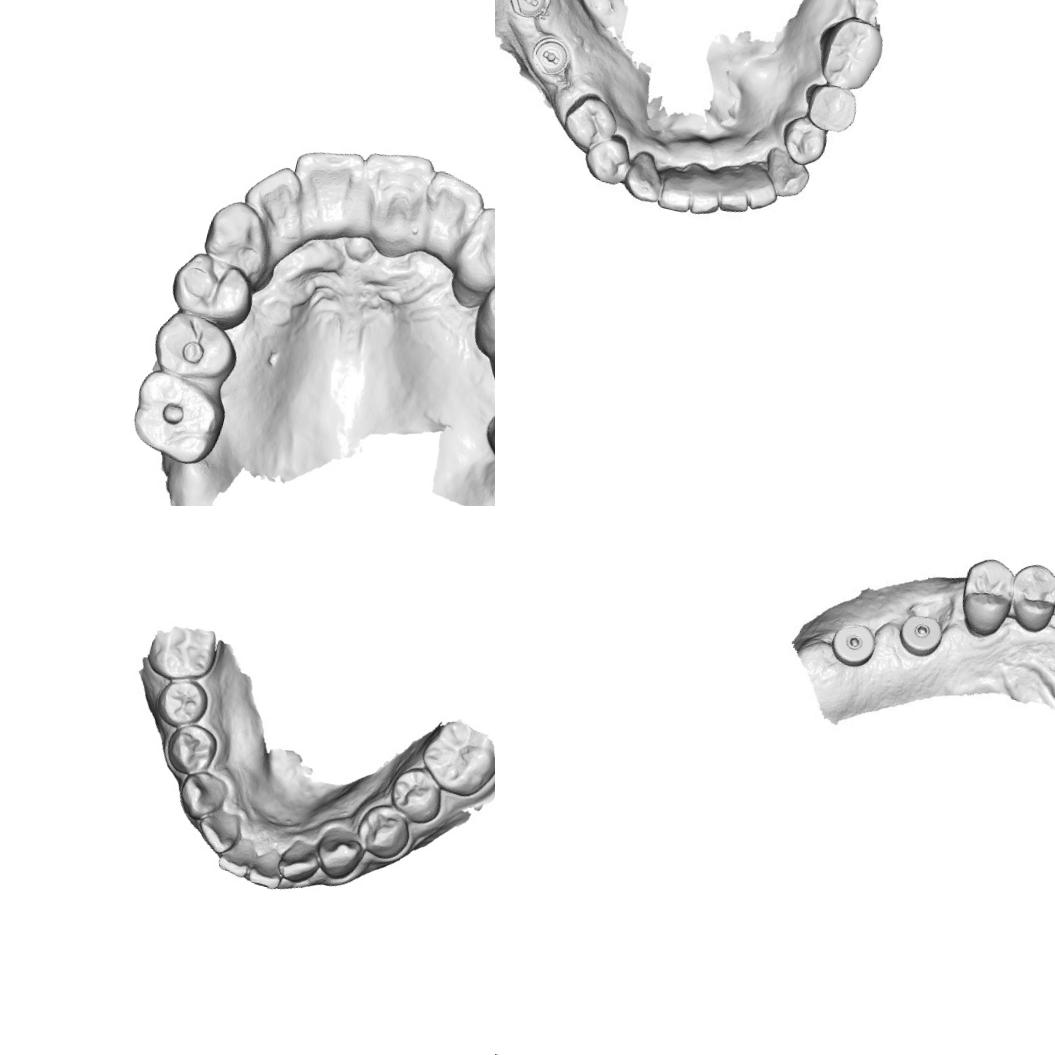canine: (196, 194, 282, 288), (447, 199, 495, 304), (310, 822, 368, 885), (174, 766, 231, 826), (759, 144, 812, 196), (624, 150, 672, 205)
implant: (831, 618, 880, 674), (899, 612, 946, 662)
implant_minus: (526, 32, 575, 82), (506, 0, 556, 24)
incisor: (347, 141, 439, 243), (282, 137, 368, 230), (234, 156, 313, 244), (414, 164, 489, 250), (192, 805, 244, 858), (274, 836, 324, 888), (715, 158, 757, 216), (658, 164, 700, 217), (686, 166, 730, 216), (214, 833, 257, 880), (246, 844, 288, 892), (740, 162, 782, 208)
molar: (121, 364, 232, 472), (414, 712, 495, 803), (142, 610, 222, 690), (817, 16, 885, 94)
premolar: (164, 247, 259, 336), (147, 305, 248, 388), (956, 550, 1025, 640), (384, 762, 450, 830), (351, 798, 416, 864), (1003, 558, 1055, 638), (151, 672, 213, 734), (162, 718, 221, 781), (560, 89, 619, 151), (803, 80, 862, 138), (581, 136, 630, 185), (781, 116, 825, 166), (473, 258, 495, 350)
